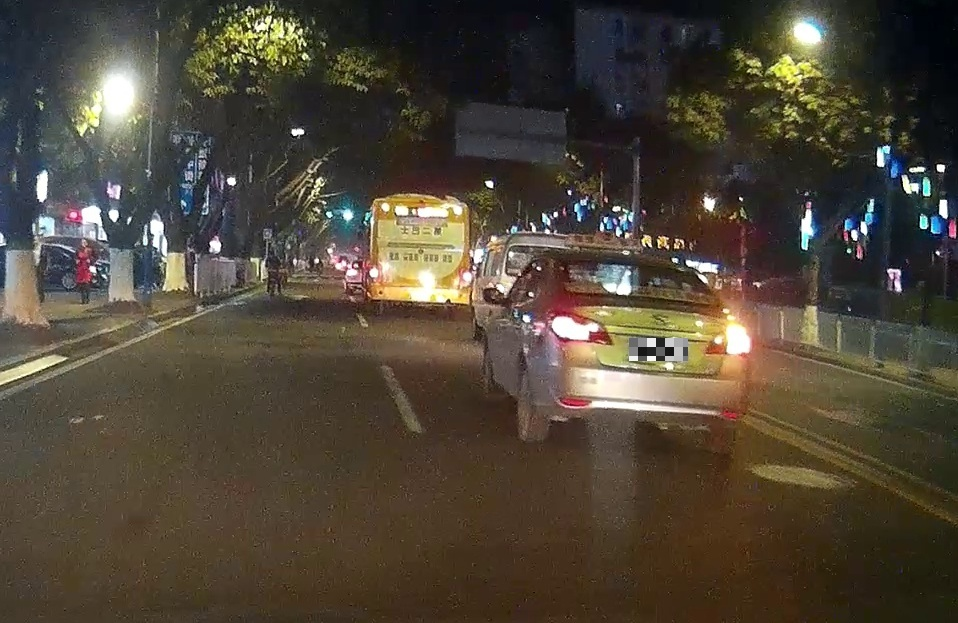L_light: (550, 310, 613, 345), (367, 267, 380, 279)
R_light: (705, 324, 751, 355), (461, 270, 472, 281)
T_light: (638, 265, 663, 271), (411, 205, 433, 209)
night-no: (368, 198, 473, 322)
night-right: (549, 252, 751, 454)
plate_1: (629, 338, 688, 361)
